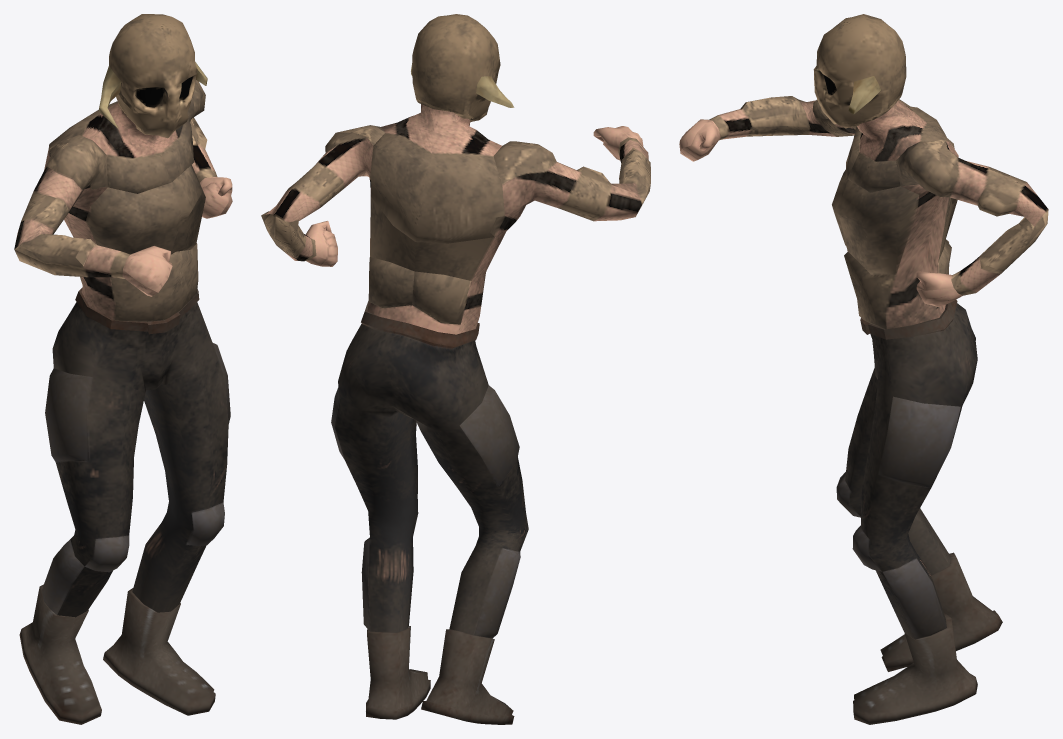
Rendered from Anim_ataque_d2_npc1.0029.obj.
3 views of the same model, side by side, from view 1: azimuth 30°, elevation 25°; view 2: azimuth 150°, elevation 25°; view 3: azimuth 270°, elevation 25° (orthographic). The views are drawn at different scales.
Parts seen in each view (by area): view 1: NPC2; view 2: NPC2; view 3: NPC2.
Boxes of the visible parts, x1=… form: NPC2: x1=14, y1=14, x2=232, y2=724; NPC2: x1=261, y1=14, x2=650, y2=724; NPC2: x1=679, y1=14, x2=1048, y2=724.
Bounding box in the file's own units: 3.96 × 9.36 × 4.63.
